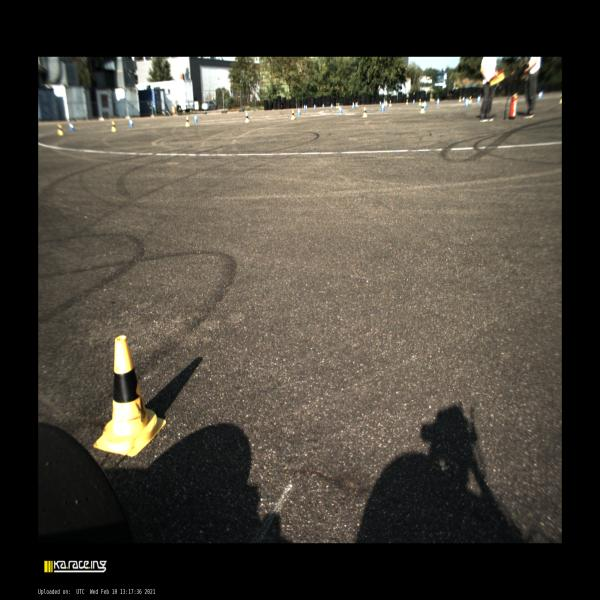blue_cone: (68, 122, 75, 131), (129, 118, 134, 127), (244, 110, 249, 118), (338, 105, 342, 114), (465, 98, 469, 107), (193, 115, 198, 122), (423, 100, 427, 108), (381, 103, 385, 111), (297, 108, 301, 115), (385, 101, 388, 107), (379, 101, 382, 106), (437, 98, 439, 105), (331, 103, 333, 109), (305, 104, 307, 110), (314, 104, 316, 110), (322, 104, 325, 108), (352, 102, 354, 108), (462, 97, 464, 101), (304, 104, 305, 110), (413, 99, 414, 104)
yellow_cone: (93, 335, 166, 457), (57, 123, 64, 136), (111, 121, 116, 132), (185, 116, 190, 127), (362, 107, 367, 117), (420, 103, 425, 113), (291, 110, 295, 119), (245, 113, 249, 122), (418, 99, 422, 105), (389, 100, 392, 107), (469, 96, 472, 103), (336, 102, 338, 109), (356, 101, 358, 107), (406, 99, 408, 105), (459, 96, 461, 102), (338, 103, 340, 108), (384, 100, 385, 106)
